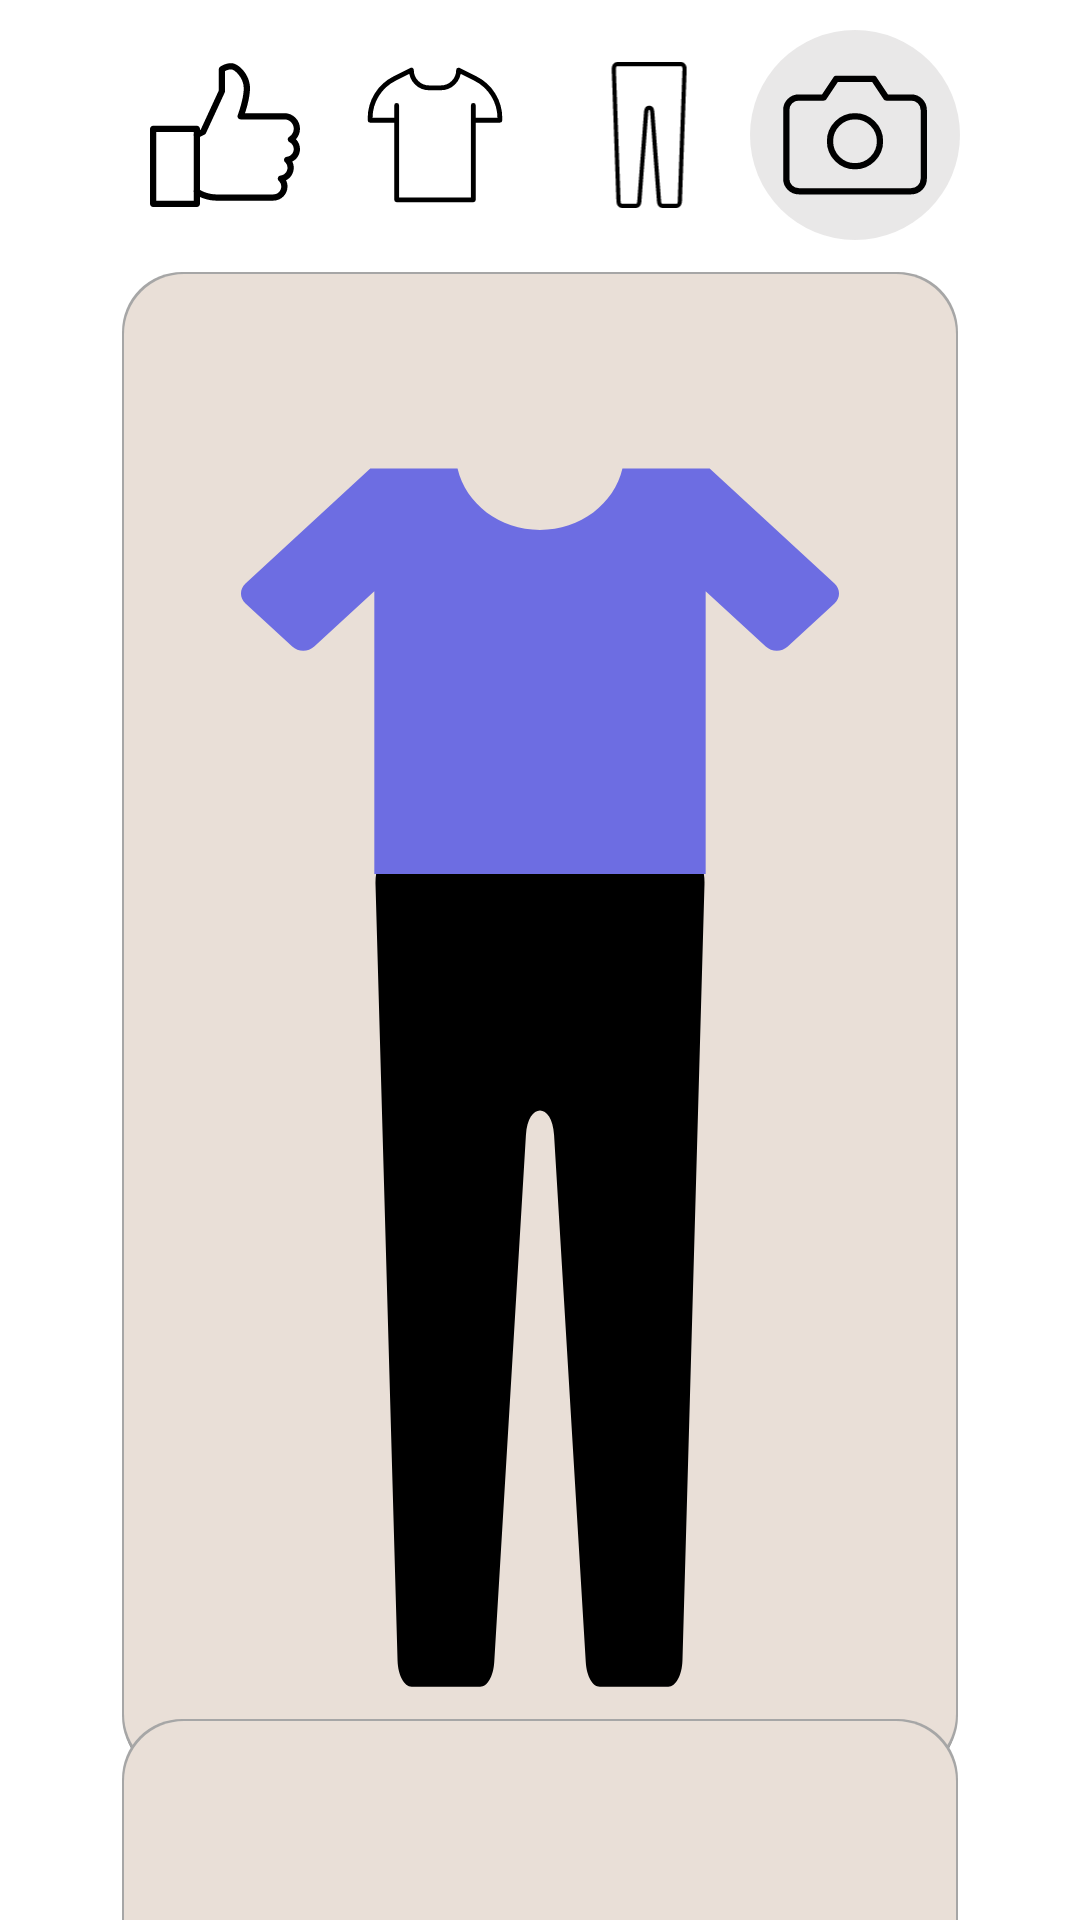

Where icons sit on this 1080px×1920px app screen, as (x1, y1, x2, y2):
camera: (750, 30, 960, 240)
thumbs up: (150, 63, 300, 207)
